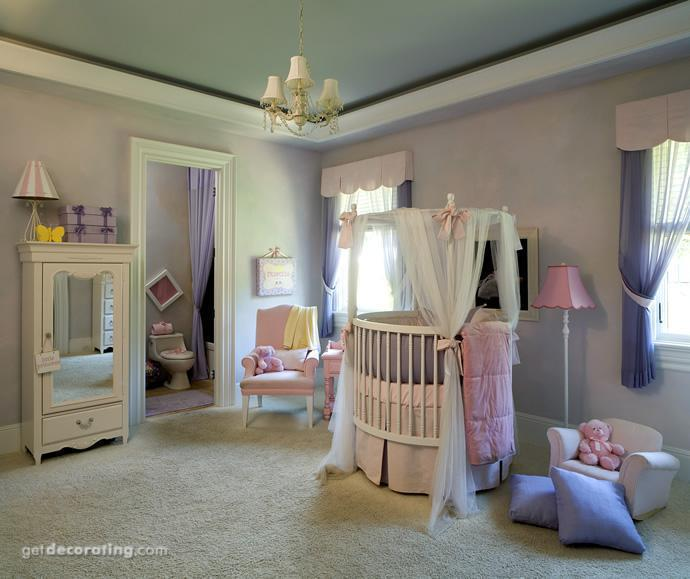Armario: (25, 245, 131, 451)
Cama: (341, 213, 511, 488)
Otro Obstaculo: (511, 419, 680, 544)
Ventana: (617, 108, 689, 365), (323, 172, 405, 312)
